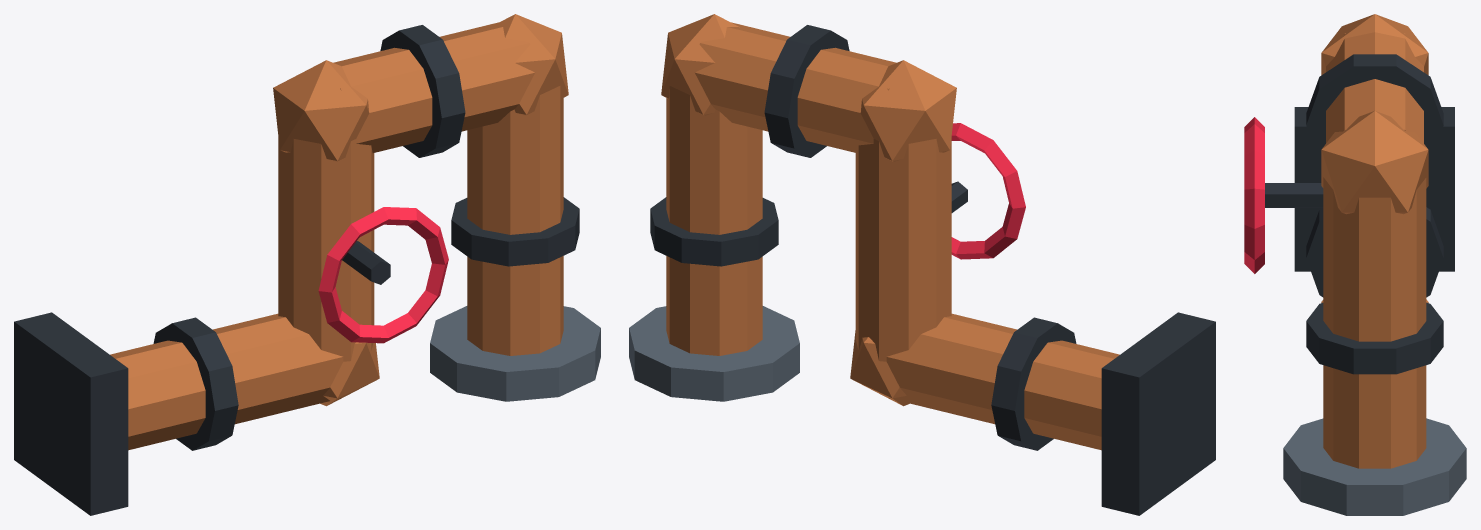
File: CopperPipes.fbx
3 renders of one model, left to right at view 1: azimuth 30°, elevation 25°; view 2: azimuth 150°, elevation 25°; view 3: azimuth 270°, elevation 25°, orthographic. The views are drawn at different scales.
Visible parts, largest first — view 1: CopperPipes, CopperPipes_Glow; view 2: CopperPipes, CopperPipes_Glow; view 3: CopperPipes, CopperPipes_Glow.
Boxes of the visible parts, x1,y1,x2,y2 form: CopperPipes: (14, 14, 600, 515); CopperPipes_Glow: (318, 207, 448, 343); CopperPipes: (629, 14, 1215, 515); CopperPipes_Glow: (951, 123, 1025, 259); CopperPipes: (1265, 14, 1466, 515); CopperPipes_Glow: (1244, 117, 1264, 273).
Bounding box in the file's own units: 566 × 367 × 194.
1 material, 1 textured.
